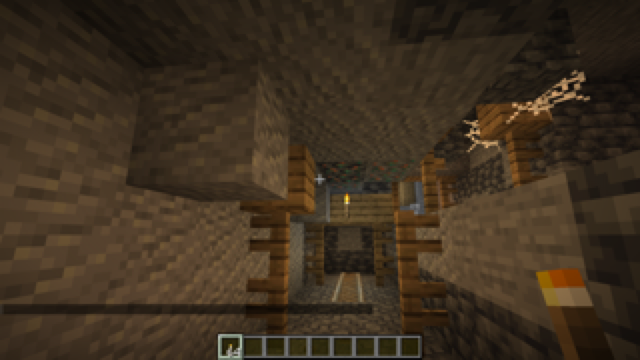copper: (313, 159, 410, 183)
